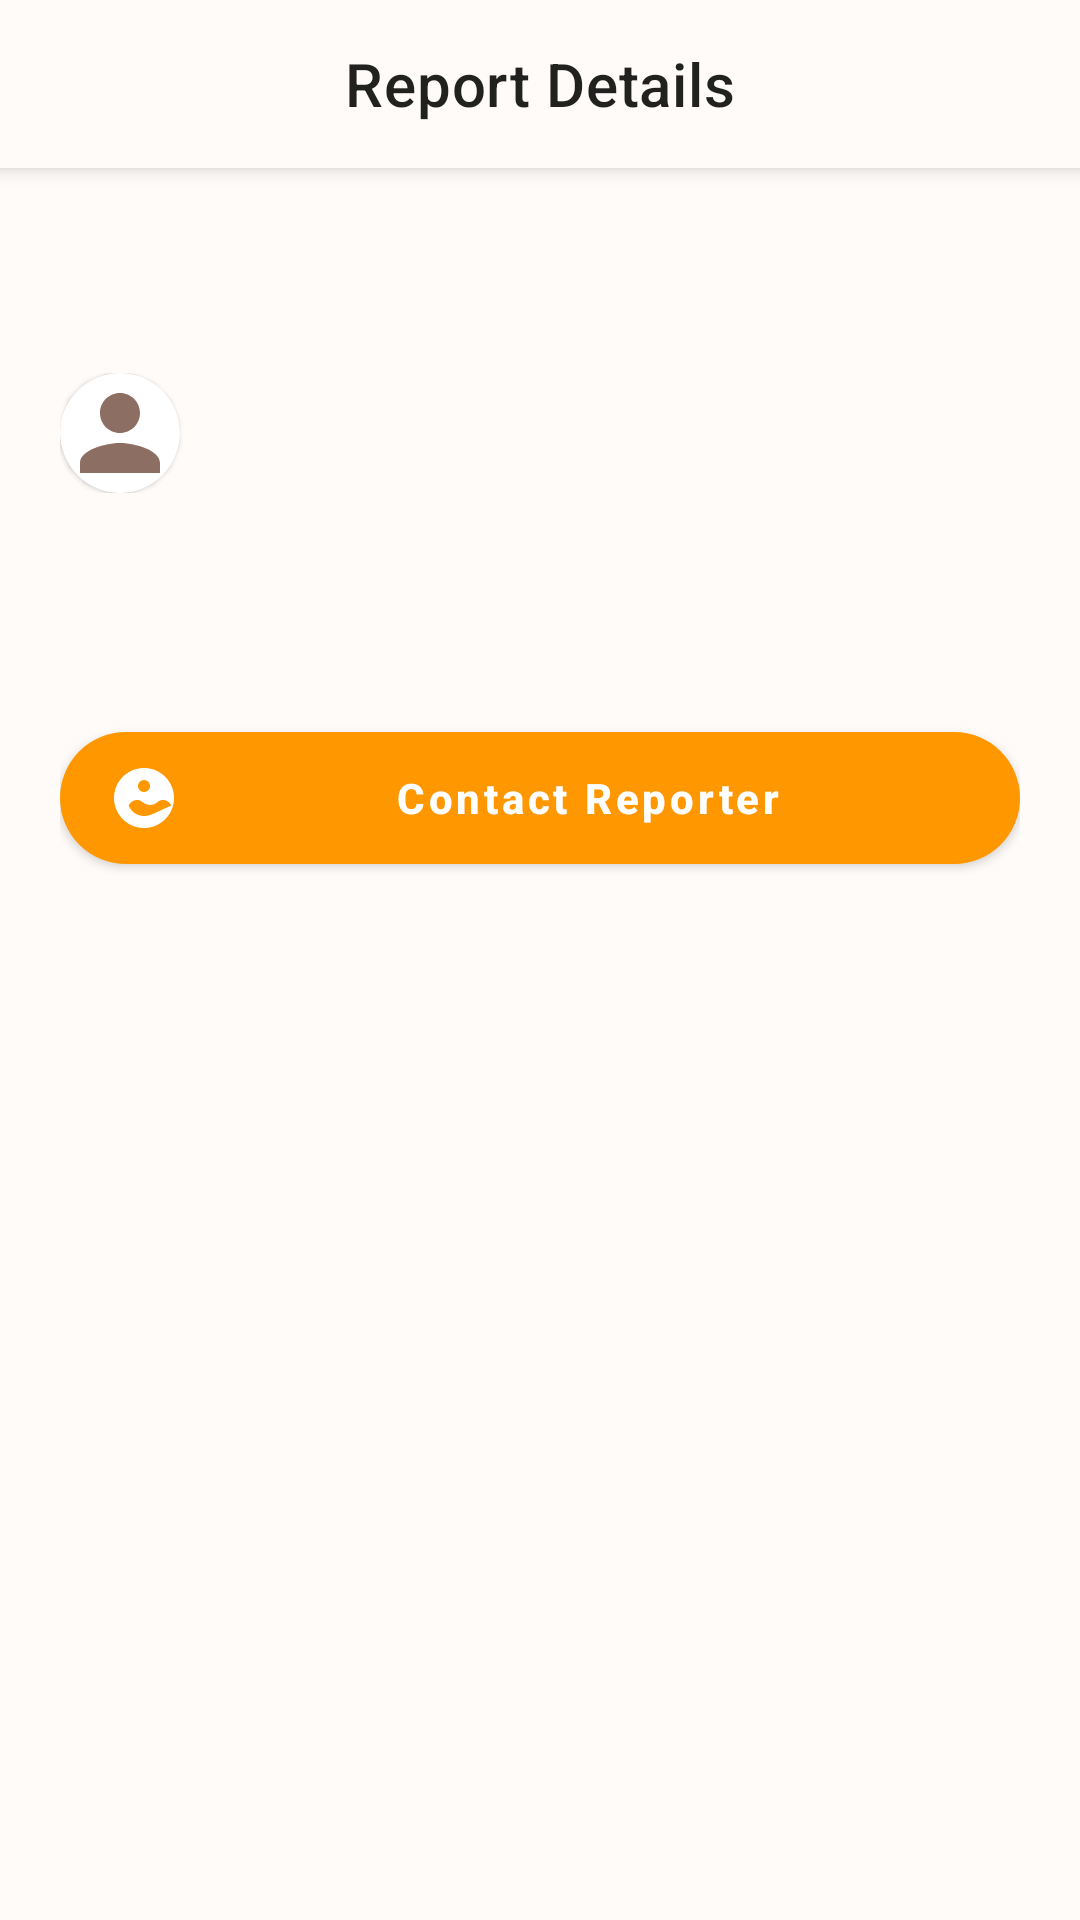

Where to tap for icons on this 1080px x 1920px app screen, as [x,y]:
user: [115,438]
